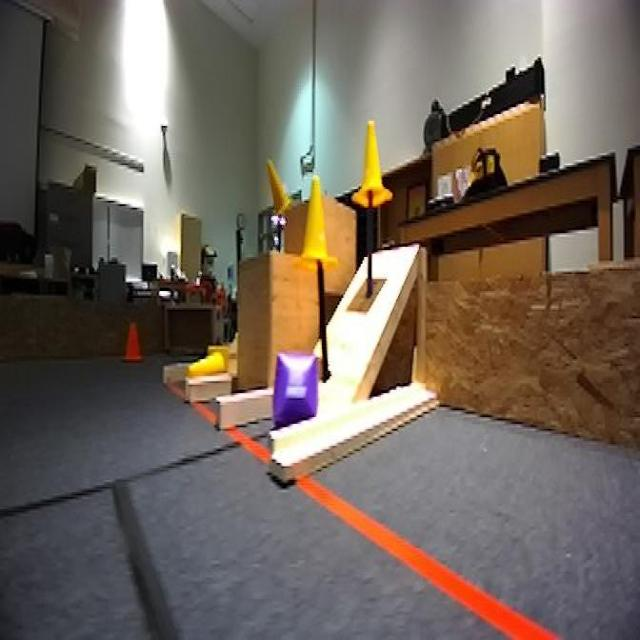frc_cone: (292, 174, 338, 274), (352, 120, 392, 210), (184, 341, 230, 386), (267, 156, 292, 218)
frc_cube: (272, 350, 318, 430)
